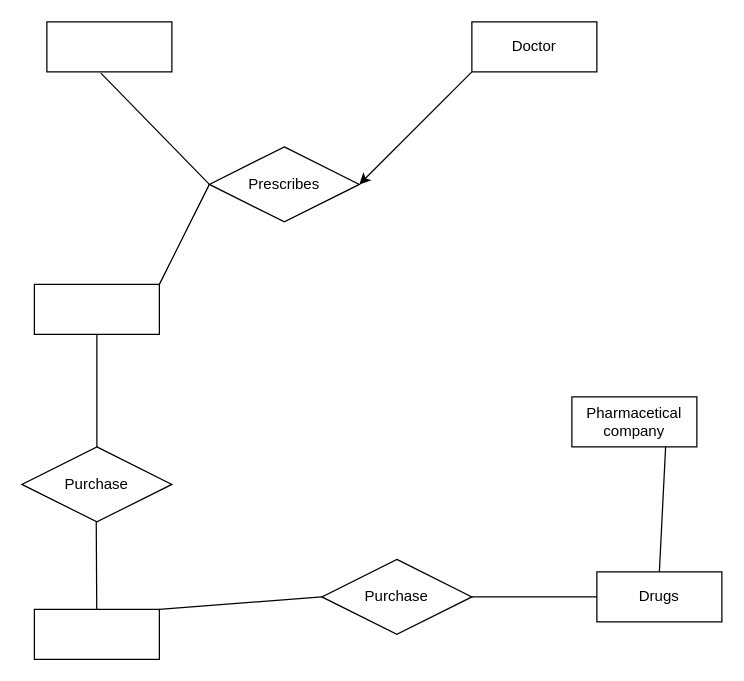
The diagram is 744 pixels wide and 681 high, and some of its shapes have lost their labels. Here are the shapes that lost their labels. From the top down, the centre of each, then its label:
[109,46]: Patient
[96,308]: Prescription
[96,633]: Pharmacy
